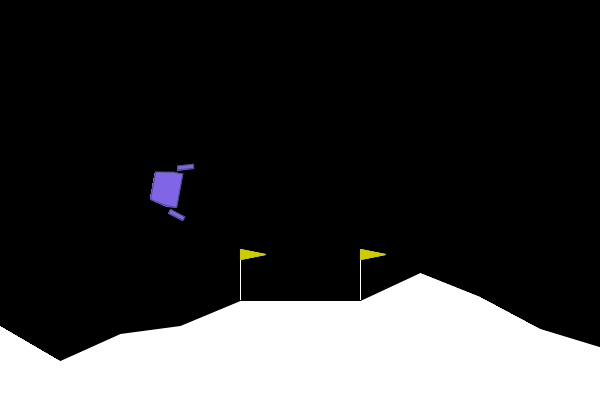lander: (145, 156, 195, 223)
